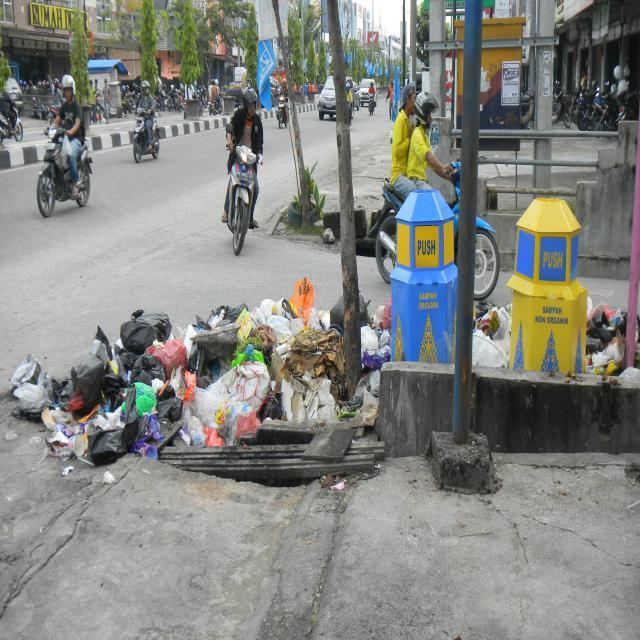Trashbag: (113, 313, 175, 352), (82, 428, 140, 460), (65, 353, 98, 400), (130, 357, 168, 390), (163, 394, 194, 427), (207, 308, 245, 324)
